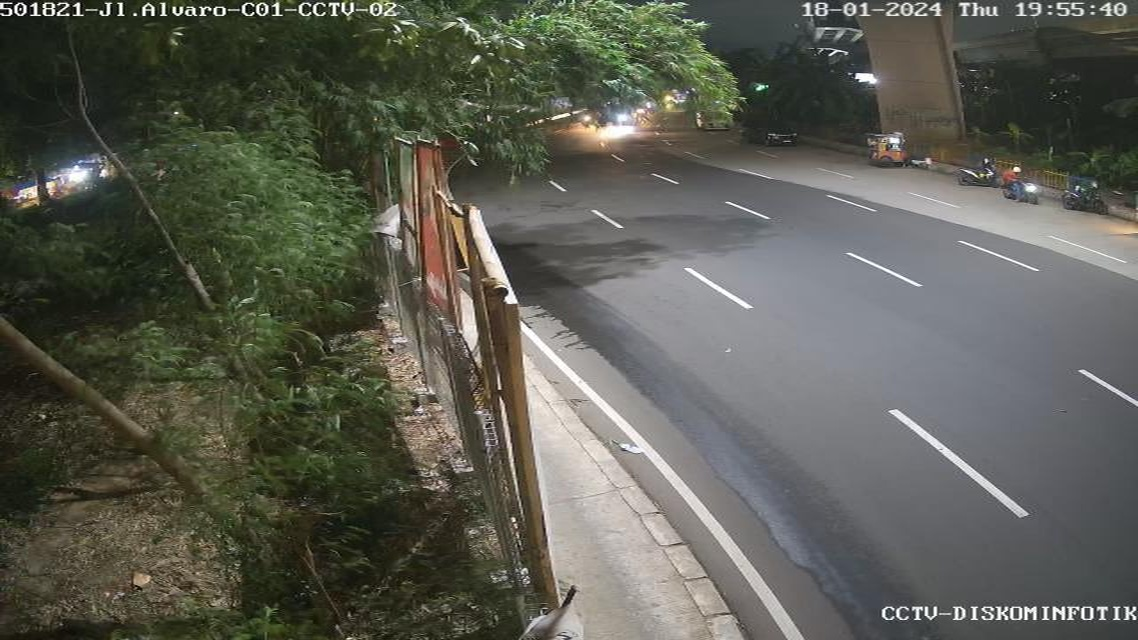Gerobak: (862, 121, 910, 174)
